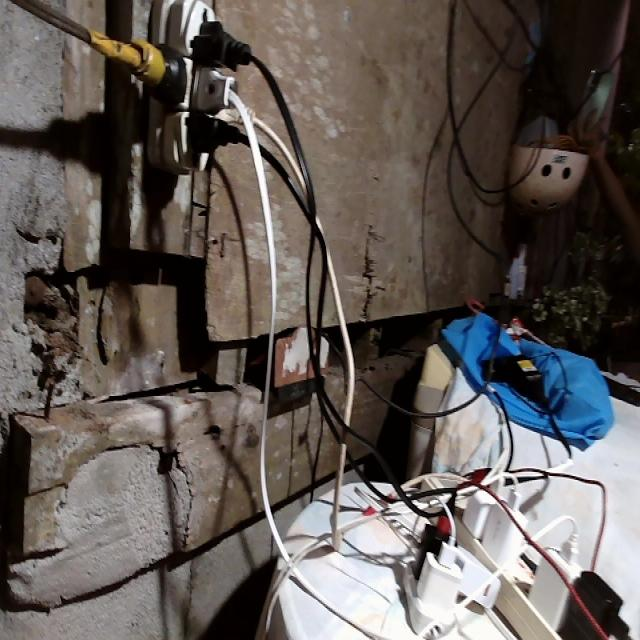-: (115, 0, 253, 168)
